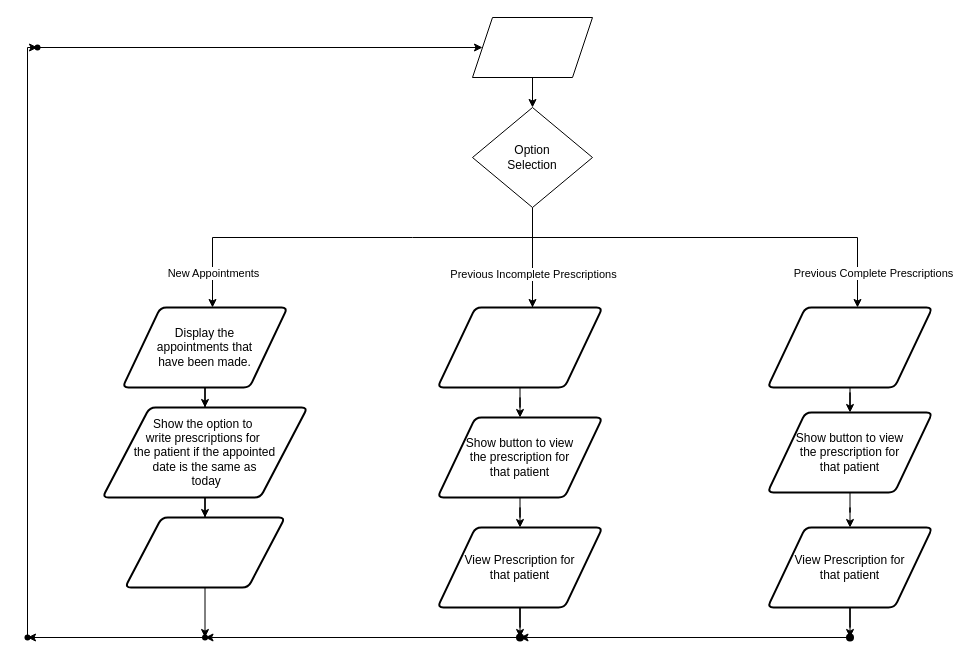
Some shapes in this 970 by 666 pixel diagram are drawn without their labels. The shapes that lost their labels are listed below. From the top down, each one's box as (x1, y1, x2, y2) in pixels, then its label:
(472, 16, 592, 78): Display Doctor Homepage
(436, 306, 603, 388): Display incomplete prescriptions from previous appointments
(766, 306, 933, 388): Display complete prescriptions from previous appointments
(124, 516, 286, 588): Prescribe medicines and l ab tests
